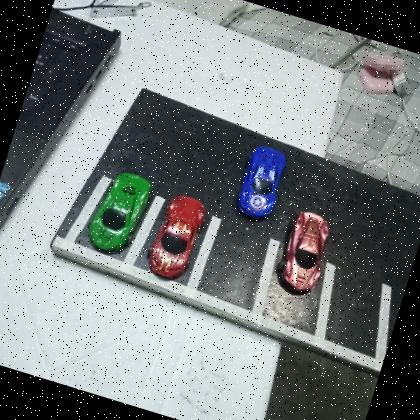Car: (81, 163, 158, 262), (141, 188, 212, 287), (268, 204, 338, 298), (230, 140, 294, 226)
